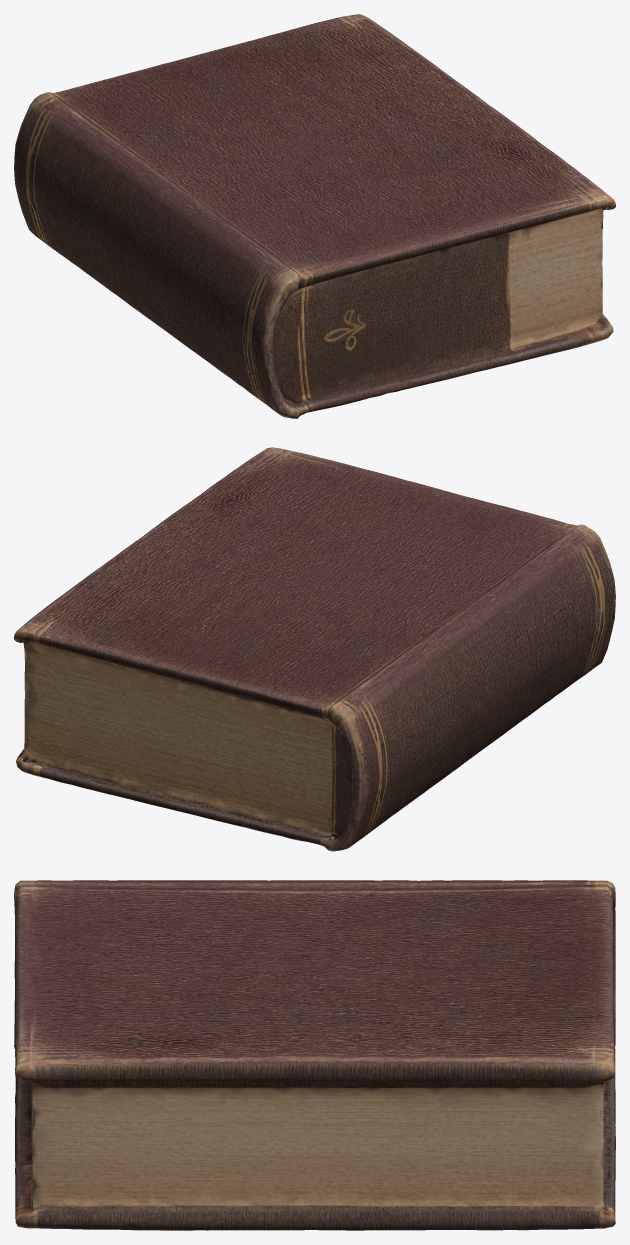
Rendered from Prop_Book1.fbx.
The picture shows the model from 3 angles, top to bottom: view 1: azimuth 30°, elevation 25°; view 2: azimuth 150°, elevation 25°; view 3: azimuth 270°, elevation 25°; orthographic projection. The views are drawn at different scales.
Parts seen in each view (by area): view 1: texture_mapping; view 2: texture_mapping; view 3: texture_mapping.
Boxes of the visible parts, box(x1,y1,x2,y2) form: texture_mapping: box(14, 14, 615, 418); texture_mapping: box(14, 447, 615, 851); texture_mapping: box(14, 880, 615, 1230).
Bounding box in the file's own units: 0.7999 × 1 × 0.3234.
1 material, 1 textured.
